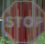Stop: (3, 2, 42, 42)
